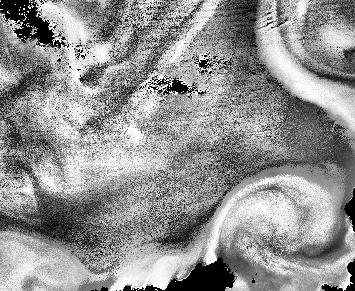AE: (230, 171, 338, 278)
